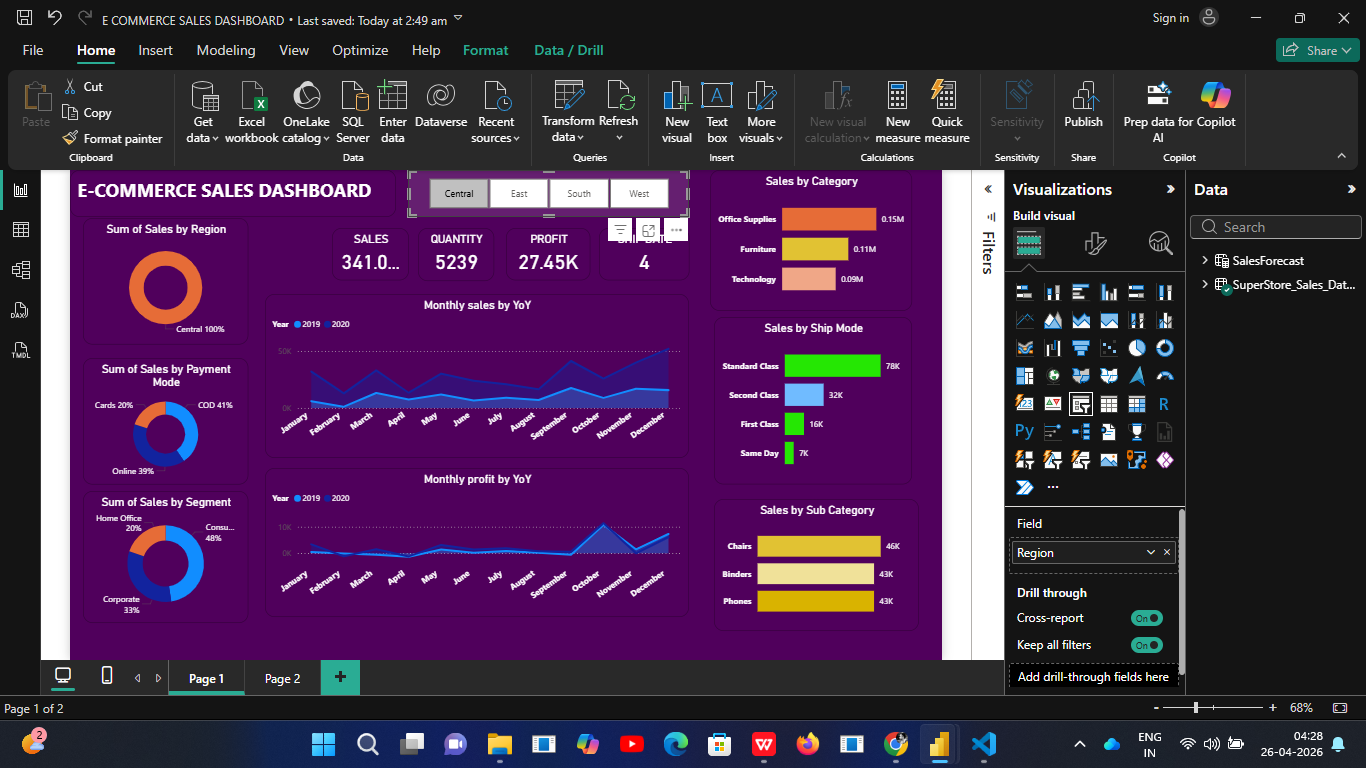

The dashboard page shown, as its layout file describes it:
{"tool":"powerbi","page":{"name":"Page 1","canvas":[1280,720],"ordinal":0},"visuals":[{"type":"clusteredBarChart","title":" Sales by Category","fields":{"Category":["SuperStore_Sales_Dataset (2).Category"],"Y":["Sum(SuperStore_Sales_Dataset (2).Sales)"]},"box":[940,0,297.1,207.1],"z":0},{"type":"clusteredBarChart","title":" Sales by Sub Category","fields":{"Category":["SuperStore_Sales_Dataset (2).Sub-Category"],"Y":["Sum(SuperStore_Sales_Dataset (2).Sales)"]},"box":[945.7,482.9,301.4,194.3],"z":1000},{"type":"clusteredBarChart","title":" Sales by Ship Mode","fields":{"Category":["SuperStore_Sales_Dataset (2).Ship Mode"],"Y":["Sum(SuperStore_Sales_Dataset (2).Sales)"]},"box":[945.7,215.7,291.4,245.7],"z":2000},{"type":"stackedAreaChart","title":" Monthly sales by YoY","fields":{"Y":["Sum(SuperStore_Sales_Dataset (2).Sales)"],"Category":["SuperStore_Sales_Dataset (2).Order Date.Variation.Date Hierarchy.Month","SuperStore_Sales_Dataset (2).Order Date.Variation.Date Hierarchy.Day"],"Series":["SuperStore_Sales_Dataset (2).Order Date.Variation.Date Hierarchy.Year"]},"box":[287.1,182.9,622.9,241.4],"z":3000},{"type":"stackedAreaChart","title":" Monthly profit by YoY","fields":{"Category":["SuperStore_Sales_Dataset (2).Order Date.Variation.Date Hierarchy.Month","SuperStore_Sales_Dataset (2).Order Date.Variation.Date Hierarchy.Day"],"Series":["SuperStore_Sales_Dataset (2).Order Date.Variation.Date Hierarchy.Year"],"Y":["Sum(SuperStore_Sales_Dataset (2).Profit)"]},"box":[287.1,437.1,622.9,218.6],"z":4000},{"type":"donutChart","fields":{"Category":["SuperStore_Sales_Dataset (2).Segment"],"Y":["Sum(SuperStore_Sales_Dataset (2).Sales)"]},"box":[18.6,471.4,242.9,194.3],"z":5000},{"type":"donutChart","fields":{"Category":["SuperStore_Sales_Dataset (2).Payment Mode"],"Y":["Sum(SuperStore_Sales_Dataset (2).Sales)"]},"box":[18.6,275.7,242.9,185.7],"z":6000},{"type":"slicer","fields":{"Values":["SuperStore_Sales_Dataset (2).Region"]},"box":[497.1,0,412.9,68.6],"z":7000},{"type":"textbox","box":[0,0,478.6,68.6],"z":8000},{"type":"card","title":"SALES","fields":{"Values":["Sum(SuperStore_Sales_Dataset (2).Sales)"]},"box":[384.3,85.7,112.9,77.1],"z":8001},{"type":"card","title":"QUANTITY","fields":{"Values":["Sum(SuperStore_Sales_Dataset (2).Quantity)"]},"box":[511.4,85.7,111.4,77.1],"z":8002},{"type":"card","title":"PROFIT","fields":{"Values":["Sum(SuperStore_Sales_Dataset (2).Profit)"]},"box":[640,85.7,124.3,77.1],"z":8003},{"type":"card","title":"SHIP DATE","fields":{"Values":["Avg(SuperStore_Sales_Dataset (2).AvgDelivery)"]},"box":[777.1,85.7,132.9,77.1],"z":8004},{"type":"donutChart","fields":{"Category":["SuperStore_Sales_Dataset (2).Region"],"Y":["Sum(SuperStore_Sales_Dataset (2).Sales)"]},"box":[18.6,70,242.9,185.7],"z":8005}]}

Visuals, with their boxes on the page's 1280x720 design canvas (x1, y1, x2, y2). These are canvas units, not pixel positions in the 1366x768 screenshot, which may show the page scaled, cropped or inside an application window:
" Sales by Category" clusteredBarChart: [left=940, top=0, right=1237, bottom=207]
" Sales by Sub Category" clusteredBarChart: [left=946, top=483, right=1247, bottom=677]
" Sales by Ship Mode" clusteredBarChart: [left=946, top=216, right=1237, bottom=461]
" Monthly sales by YoY" stackedAreaChart: [left=287, top=183, right=910, bottom=424]
" Monthly profit by YoY" stackedAreaChart: [left=287, top=437, right=910, bottom=656]
donutChart - SuperStore_Sales_Dataset (2).Segment x Sum(SuperStore_Sales_Dataset (2).Sales): [left=19, top=471, right=262, bottom=666]
donutChart - SuperStore_Sales_Dataset (2).Payment Mode x Sum(SuperStore_Sales_Dataset (2).Sales): [left=19, top=276, right=262, bottom=461]
slicer - SuperStore_Sales_Dataset (2).Region: [left=497, top=0, right=910, bottom=69]
textbox: [left=0, top=0, right=479, bottom=69]
"SALES" card: [left=384, top=86, right=497, bottom=163]
"QUANTITY" card: [left=511, top=86, right=623, bottom=163]
"PROFIT" card: [left=640, top=86, right=764, bottom=163]
"SHIP DATE" card: [left=777, top=86, right=910, bottom=163]
donutChart - SuperStore_Sales_Dataset (2).Region x Sum(SuperStore_Sales_Dataset (2).Sales): [left=19, top=70, right=262, bottom=256]
